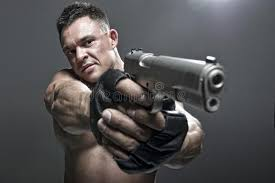gun: (120, 47, 222, 112)
